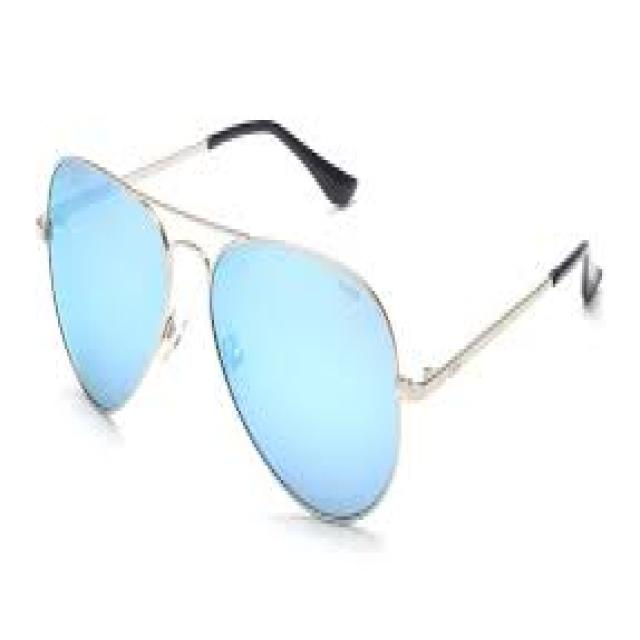sunglasses: (48, 154, 407, 536)
